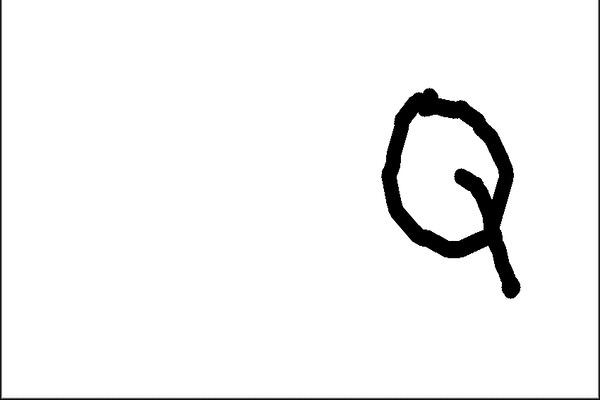Q: (370, 70, 524, 310)
